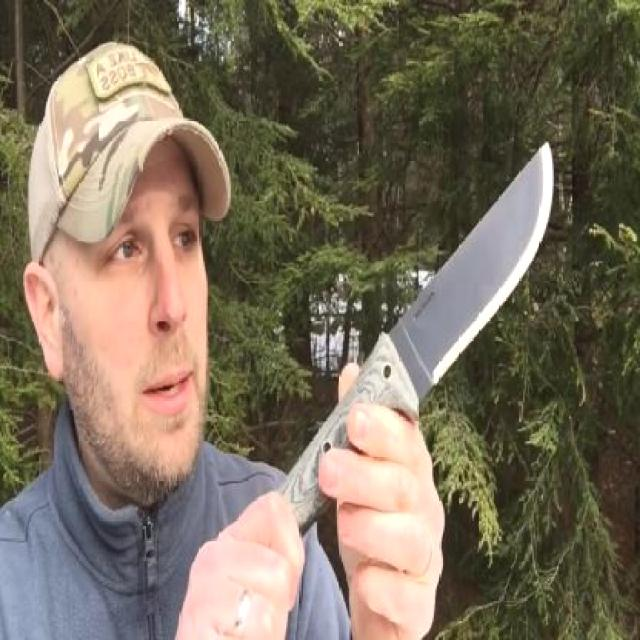knife: (337, 129, 558, 460)
